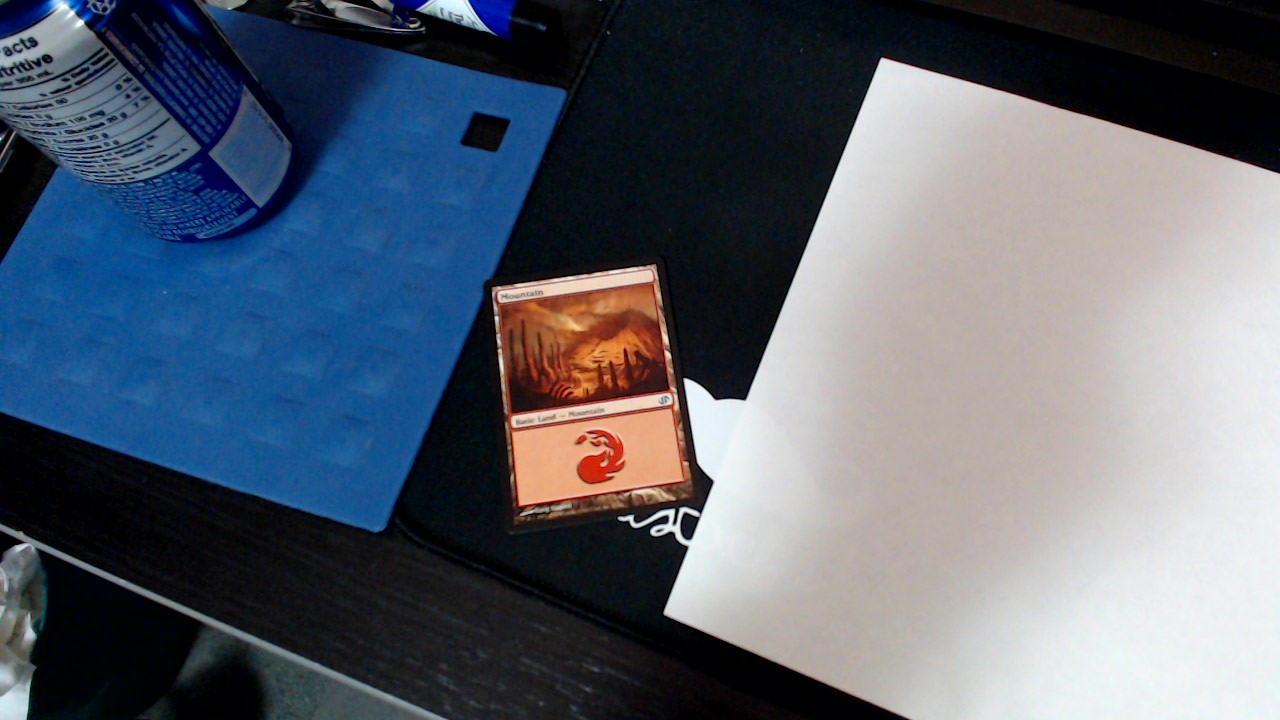MTG Card: (479, 255, 710, 539)
